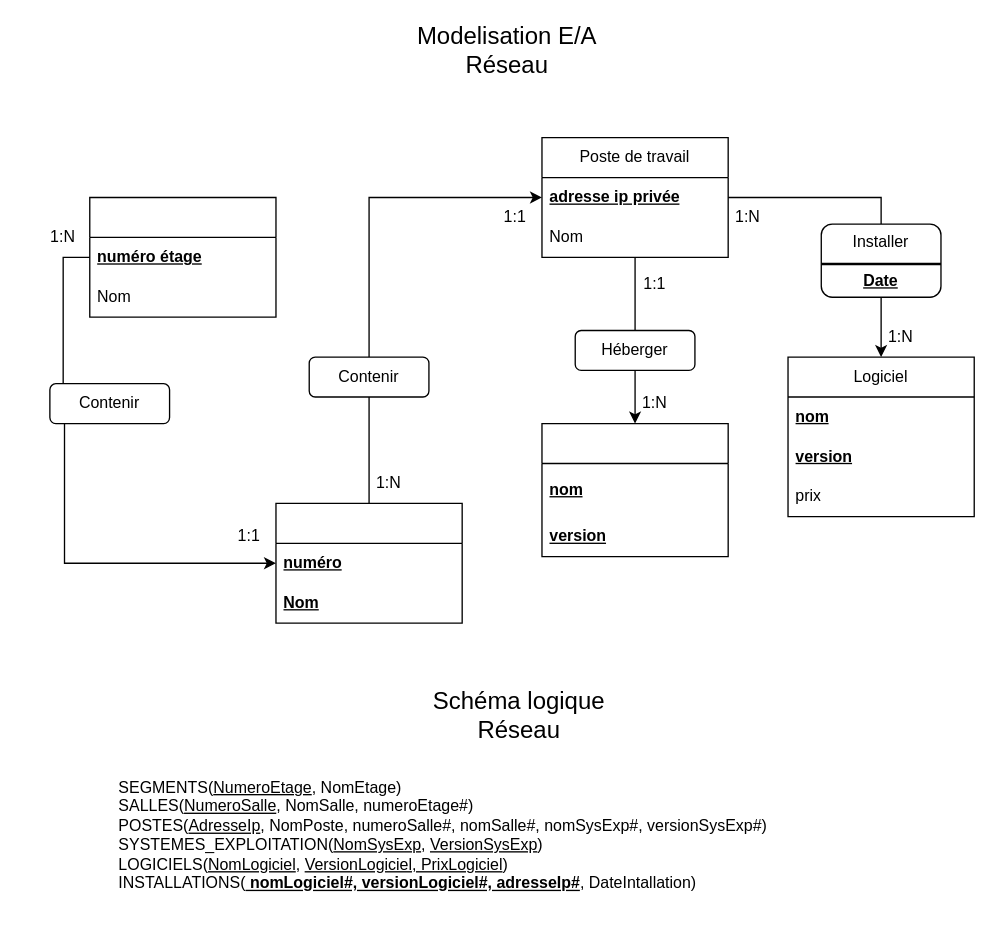
This 998x939 diagram has some shape labels left out. The box of each missing label's shape, as (x1, y1, x2, y2) in pixels:
Salle: (275, 502, 462, 623)
Segment: (88, 196, 276, 317)
Système d'exploitation: (541, 422, 728, 557)
